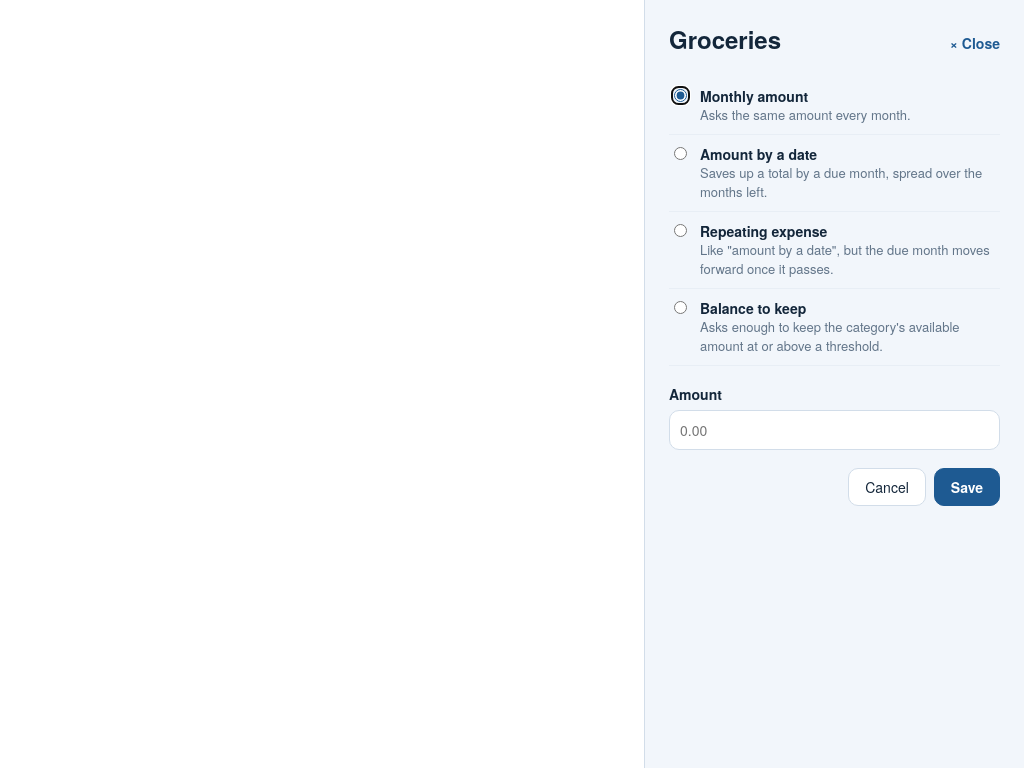
Test: TargetEditor (#55) › requires a due month for an amount-by-date target
Click the radio button labelled "Amount by a date". click: [680, 153]
box: [674,147,687,160]
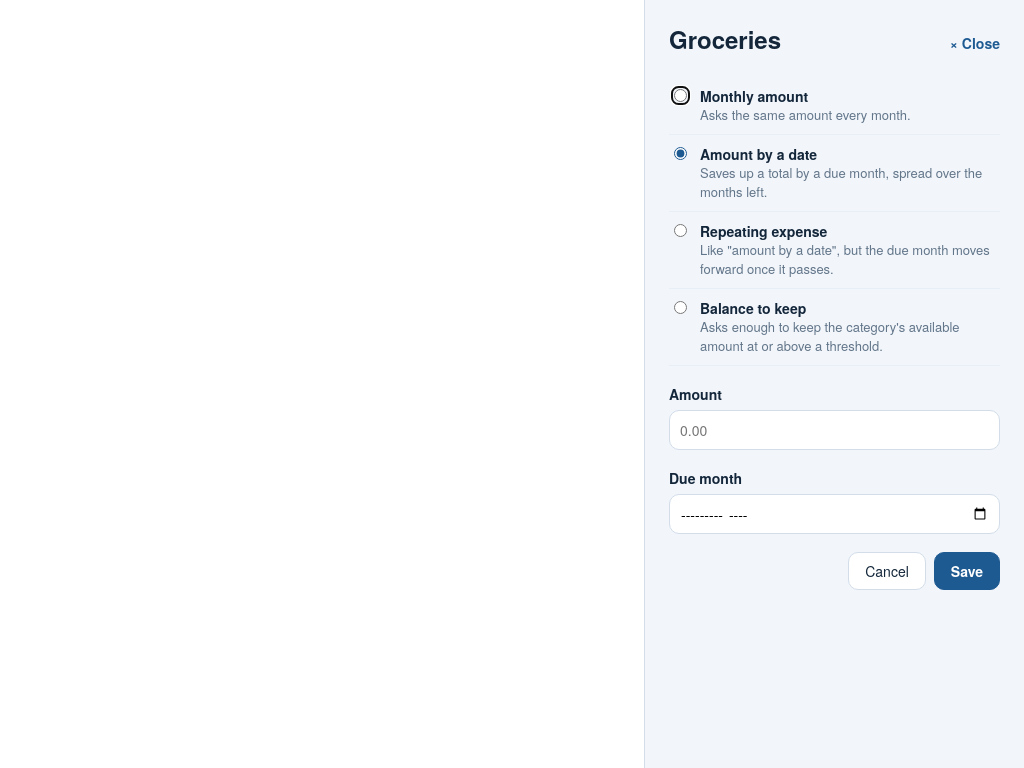
Type "100.00" into the field labelled "Amount". click: [834, 430]
box: [669,410,1000,450]
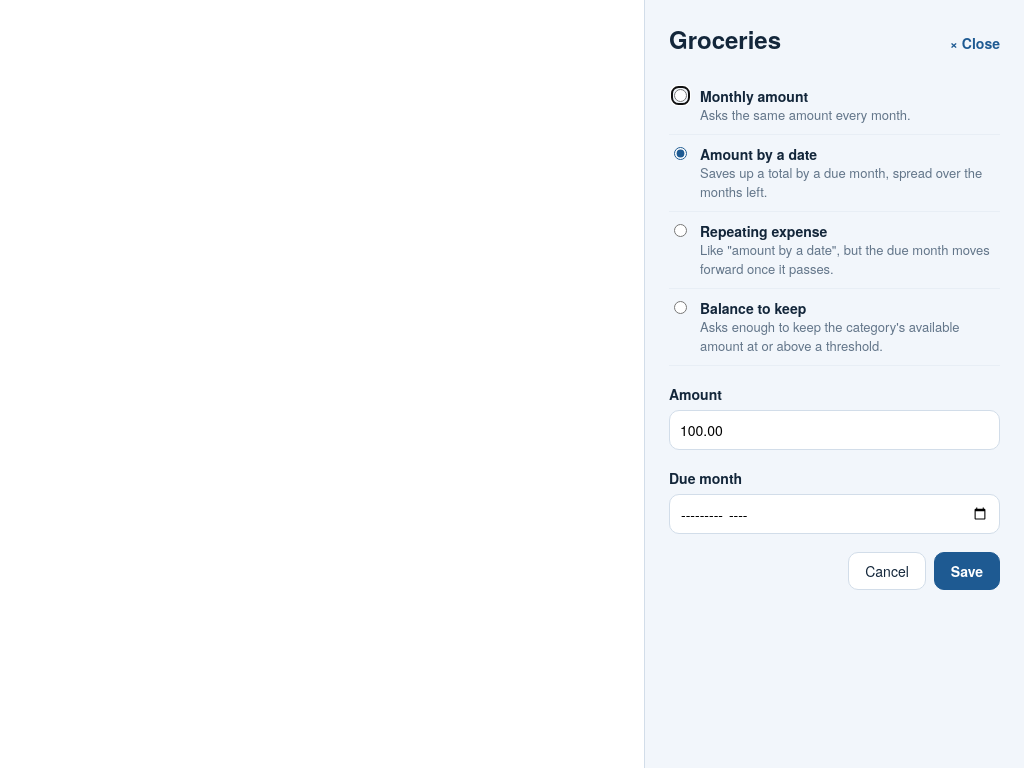
Click the button "Save". click: [967, 572]
box: [934,552,1000,590]
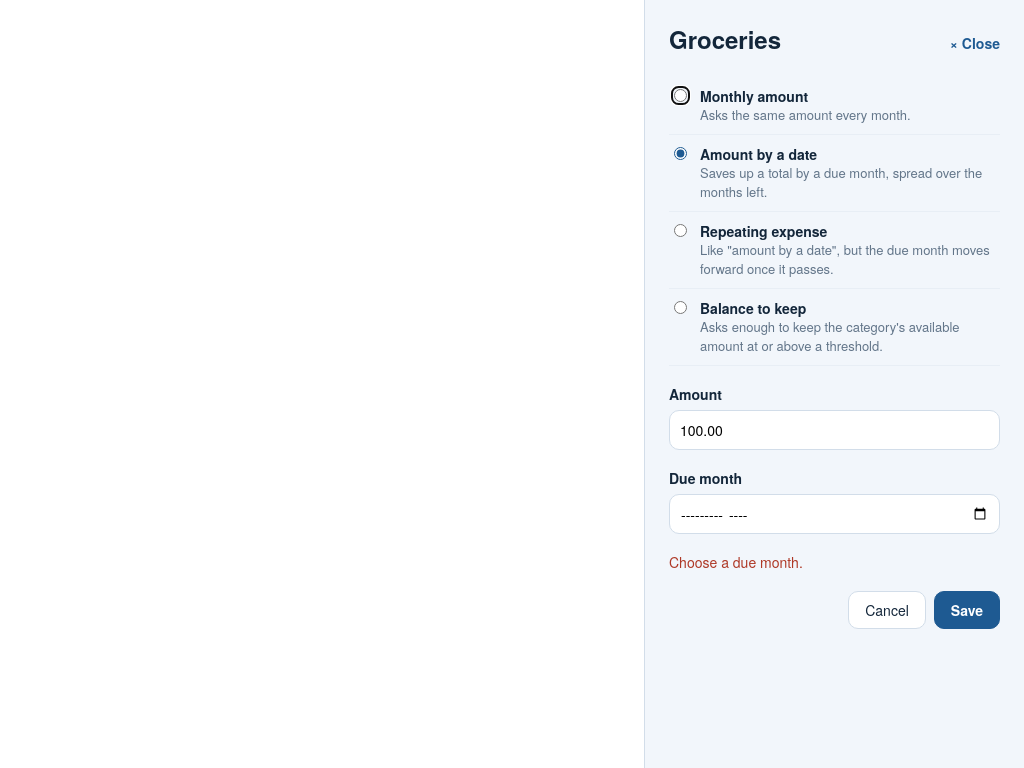
Expected: the message reads "Choose a due month.", [669,552,803,572]
